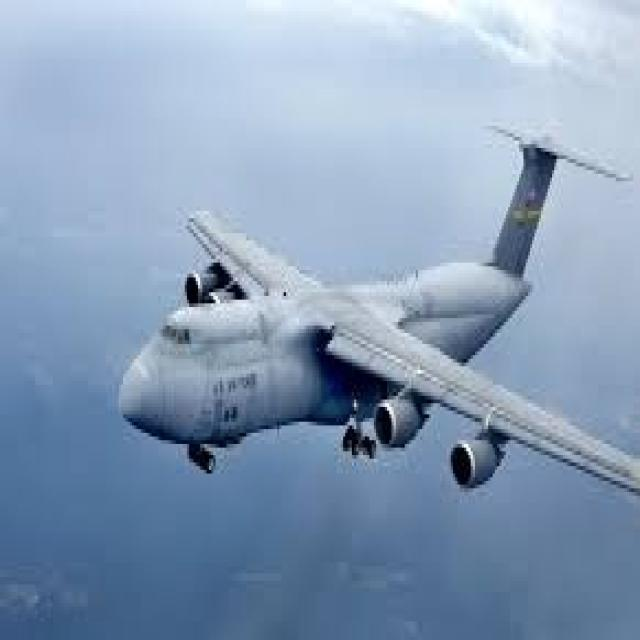C5: (74, 100, 640, 565)
